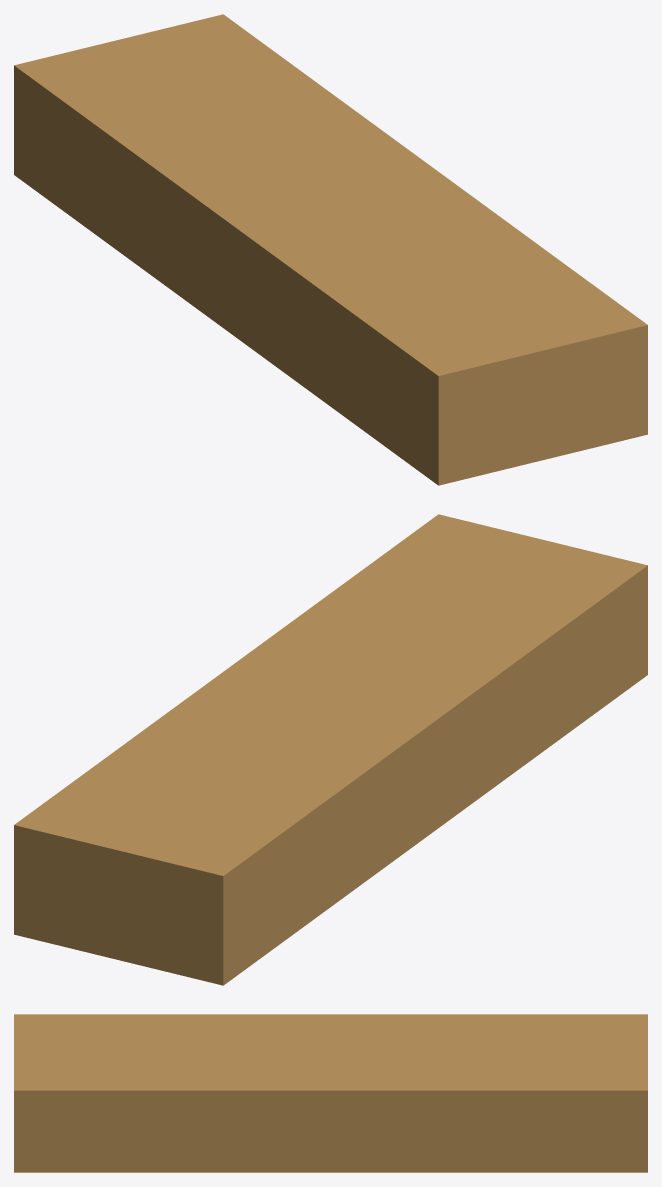
The picture shows the model from 3 angles, top to bottom: view 1: azimuth 30°, elevation 25°; view 2: azimuth 150°, elevation 25°; view 3: azimuth 270°, elevation 25°; orthographic projection. The views are drawn at different scales.
Visible parts, largest first — view 1: RUN-075-S00-NOG-07; view 2: RUN-075-S00-NOG-07; view 3: RUN-075-S00-NOG-07.
Boxes of the visible parts, <box> form: RUN-075-S00-NOG-07: <box>14,14,647,485</box>; RUN-075-S00-NOG-07: <box>14,514,647,985</box>; RUN-075-S00-NOG-07: <box>14,1014,647,1172</box>.
Bounding box in the file's own units: 0.09 × 0.045 × 0.316.
